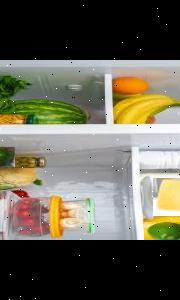Aguacate: (143, 222, 180, 240)
Plátano: (113, 94, 180, 123)
